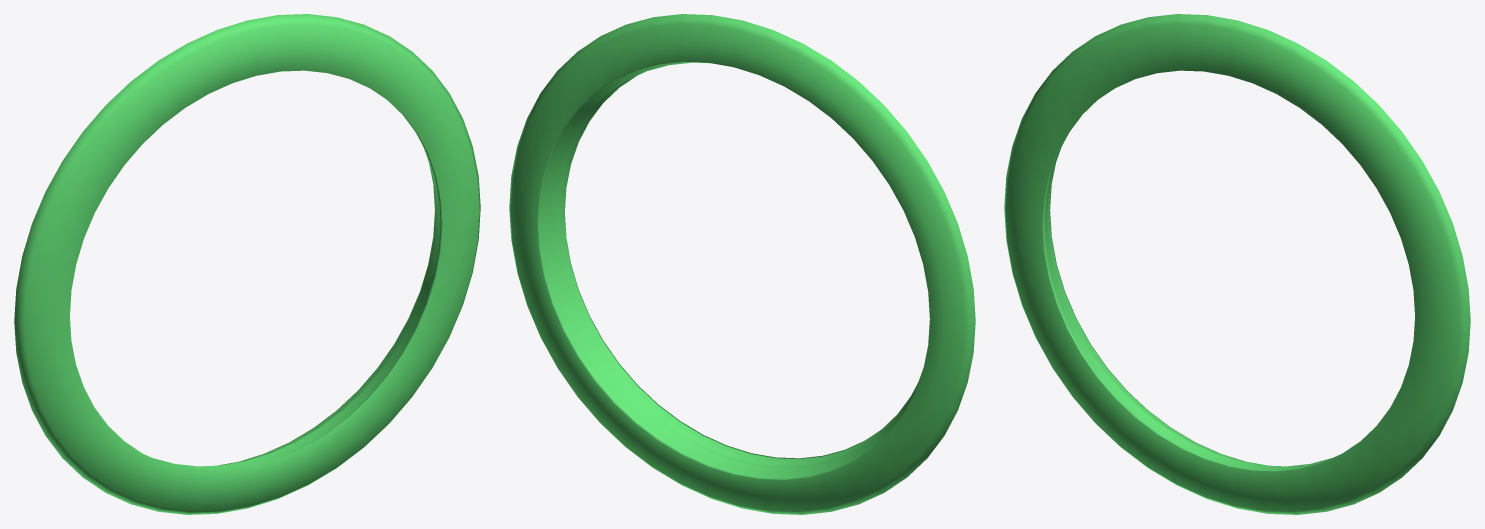
File: Air Ring.fbx
3 views of the same model, side by side, from view 1: azimuth 30°, elevation 25°; view 2: azimuth 150°, elevation 25°; view 3: azimuth 330°, elevation 25° (orthographic).
Parts seen in each view (by area): view 1: トーラス; view 2: トーラス; view 3: トーラス.
Boxes of the visible parts, x1,y1,x2,y2 form: トーラス: (14,14,480,514); トーラス: (509,14,975,514); トーラス: (1004,14,1470,514).
Bounding box in the file's own units: 7.5 × 7.5 × 0.5.
